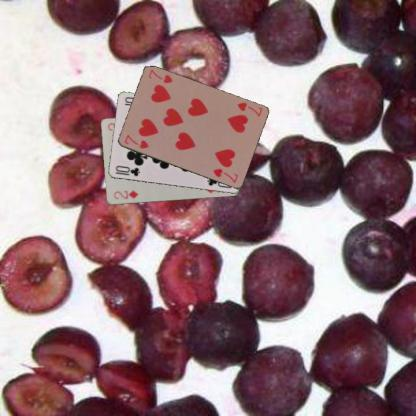10c: (113, 163, 141, 177)
2d: (111, 188, 139, 200)
7h: (234, 100, 263, 118), (122, 132, 150, 150)
